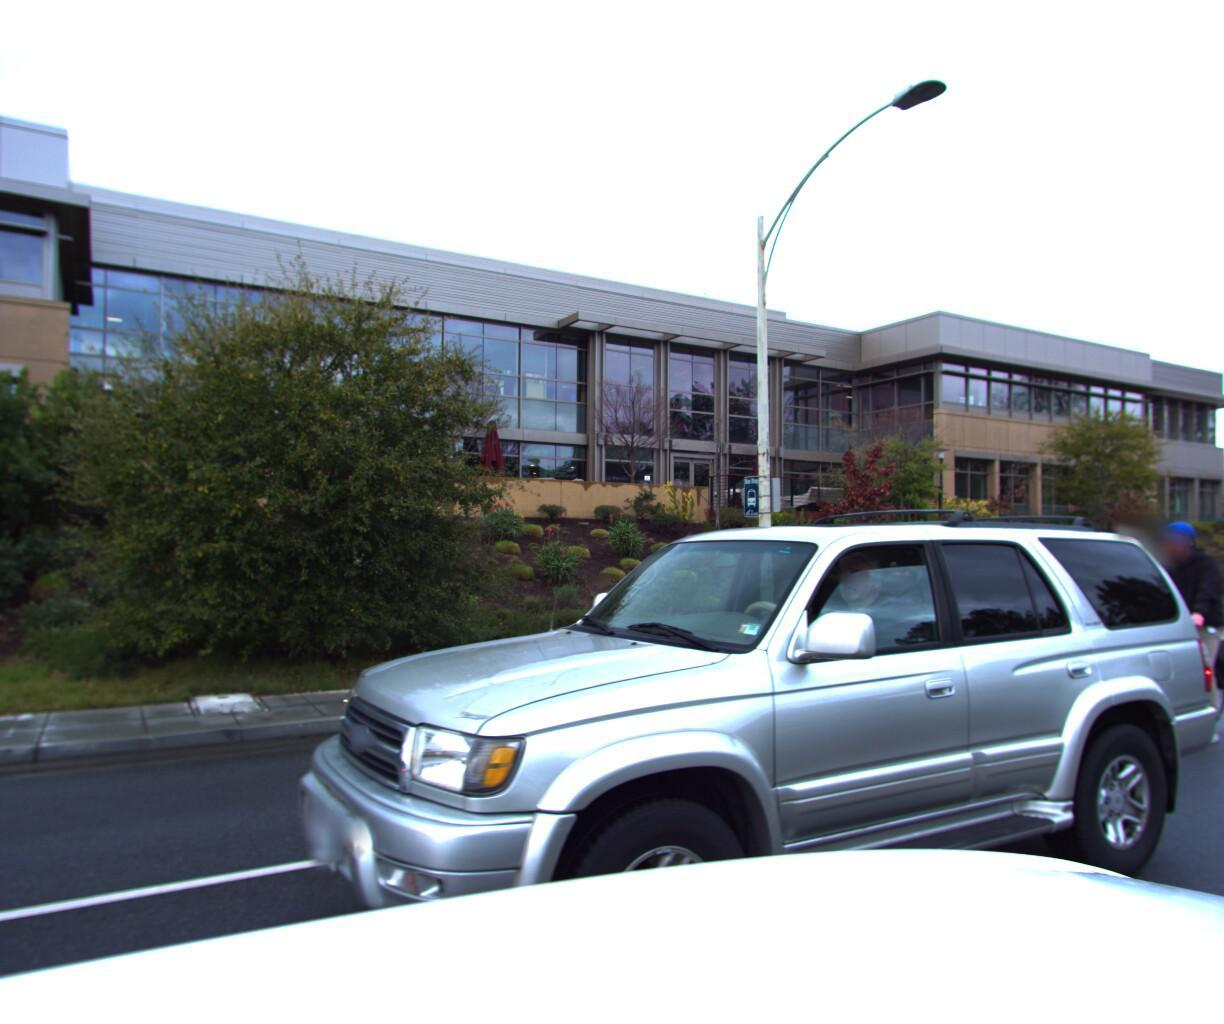bicycle: (1032, 502, 1224, 761)
car: (217, 447, 1224, 1024)
